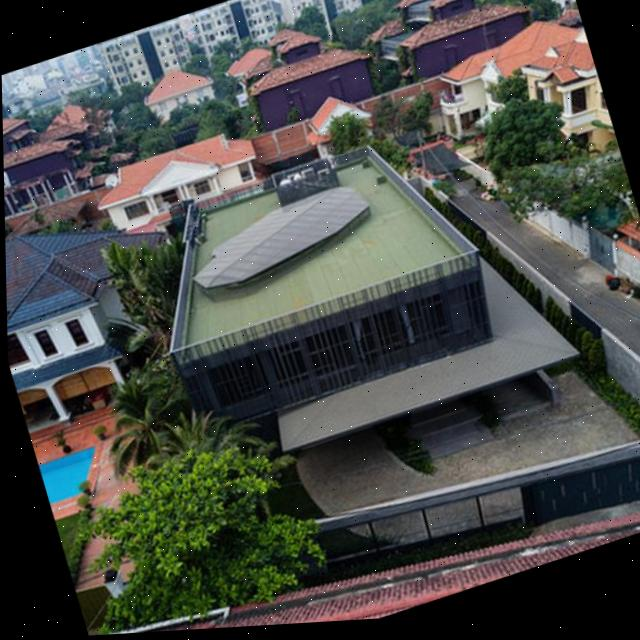building: (133, 95, 594, 521), (370, 0, 624, 226), (4, 181, 206, 436), (92, 115, 272, 240), (219, 0, 379, 139), (2, 84, 95, 231), (290, 75, 381, 166), (128, 49, 223, 132)
